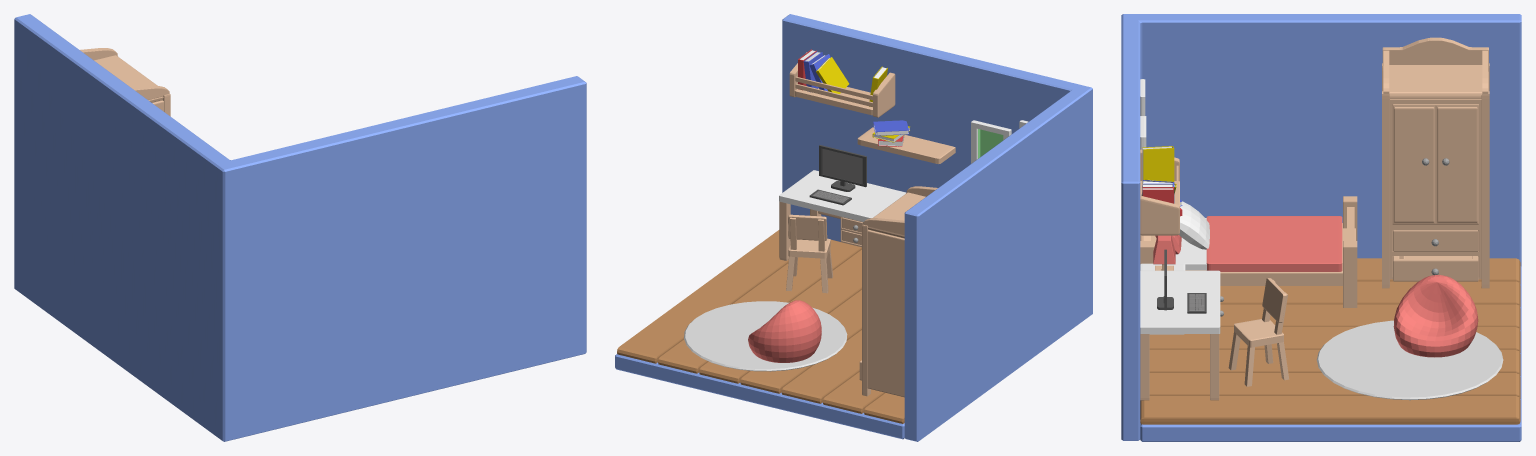
The model's file is Low poly bedroom.fbx.
3 renders of one model, left to right at view 1: azimuth 30°, elevation 25°; view 2: azimuth 150°, elevation 25°; view 3: azimuth 270°, elevation 25°, orthographic. The views are drawn at different scales.
Parts seen in each view (by area): view 1: Wall, Wardrobe 1; view 2: Wall, Wood floor 1, Wardrobe 1, Carpet 1, Floor, Table 1, Seat 1, Wall bookshelf.001, Chair 1, PC 1, Wall shelf.001, Book stack 2.001 (+2 smaller); view 3: Wall, Wood floor 1, Wardrobe 1, Bed 1, Carpet 1, Floor, Table 1, Seat 1, Chair 1, Wall bookshelf.001, Cube.008, Lamp 1 (+2 smaller).
Boxes of the visible parts, x1=… form: Wall: x1=14, y1=14, x2=586, y2=441; Wardrobe 1: x1=80, y1=48, x2=170, y2=116; Wall: x1=782, y1=14, x2=1092, y2=441; Wood floor 1: x1=617, y1=230, x2=904, y2=423; Wardrobe 1: x1=859, y1=186, x2=937, y2=397; Carpet 1: x1=684, y1=301, x2=847, y2=371; Floor: x1=615, y1=354, x2=904, y2=439; Table 1: x1=779, y1=170, x2=905, y2=260; Seat 1: x1=748, y1=300, x2=821, y2=362; Wall bookshelf.001: x1=789, y1=52, x2=895, y2=117; Chair 1: x1=786, y1=214, x2=833, y2=293; PC 1: x1=819, y1=145, x2=866, y2=191; Wall shelf.001: x1=857, y1=127, x2=955, y2=163; Book stack 2.001: x1=798, y1=49, x2=849, y2=93; Wall: x1=1121, y1=14, x2=1521, y2=440; Wood floor 1: x1=1140, y1=258, x2=1520, y2=424; Wardrobe 1: x1=1382, y1=37, x2=1489, y2=288; Bed 1: x1=1140, y1=196, x2=1357, y2=307; Carpet 1: x1=1316, y1=320, x2=1503, y2=400; Floor: x1=1140, y1=266, x2=1521, y2=441; Table 1: x1=1140, y1=270, x2=1223, y2=400; Seat 1: x1=1393, y1=275, x2=1478, y2=357; Chair 1: x1=1228, y1=278, x2=1289, y2=386; Wall bookshelf.001: x1=1140, y1=149, x2=1179, y2=235; Cube.008: x1=1142, y1=146, x2=1174, y2=183; Lamp 1: x1=1153, y1=235, x2=1175, y2=270.
Bounding box in the file's own units: 840 × 603 × 840.
